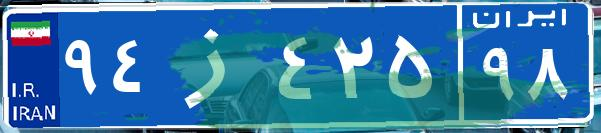2: (330, 28, 385, 110)
4: (273, 28, 330, 110), (110, 28, 158, 105)
5: (385, 28, 445, 110)
8: (525, 38, 570, 115)
9: (57, 26, 110, 107), (475, 38, 525, 113)
ز: (158, 15, 273, 115)
